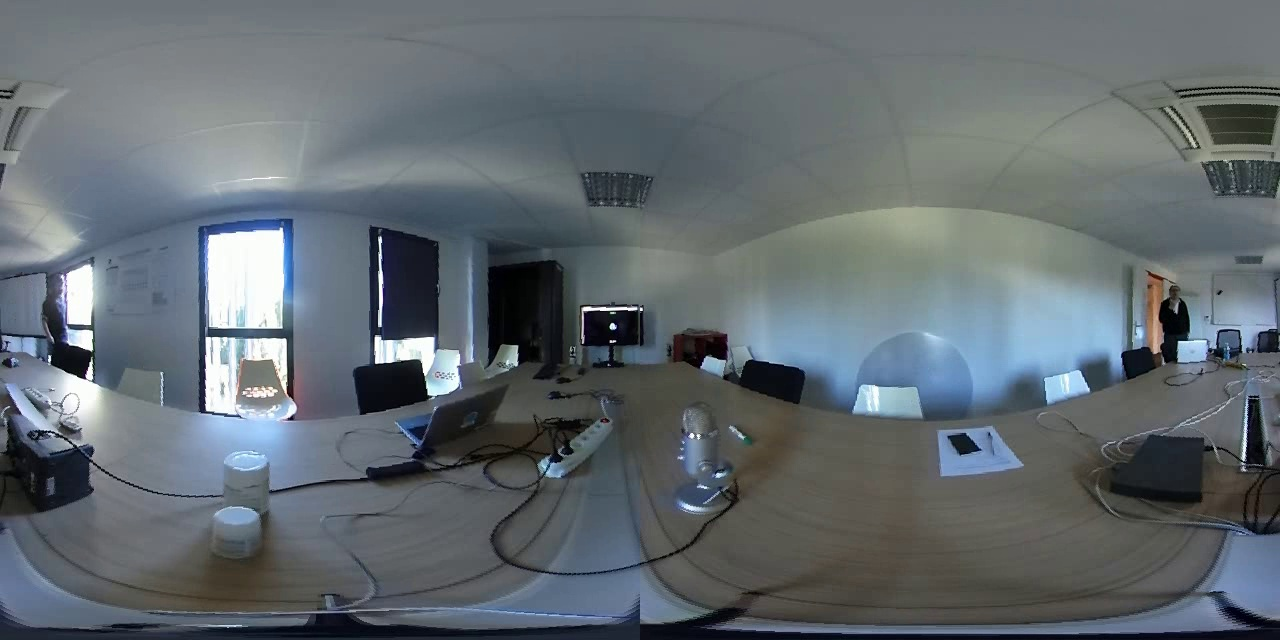person: (29, 264, 80, 347), (1156, 280, 1199, 343)
